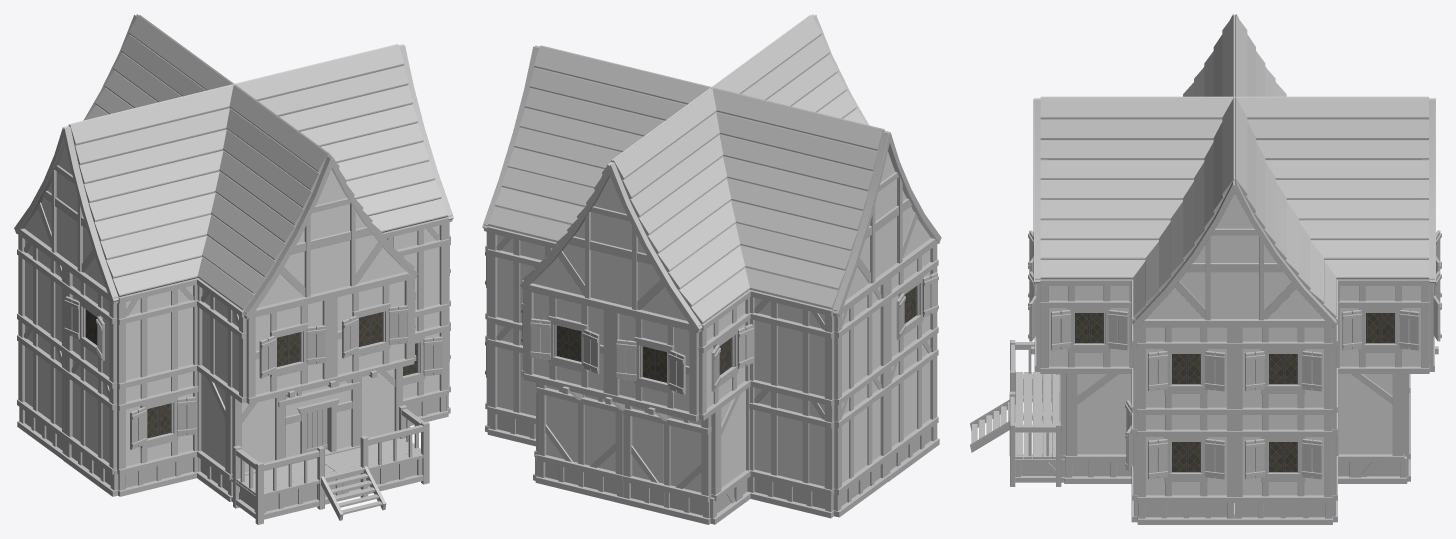
File: City_House_1A4.fbx
3 renders of one model, left to right at view 1: azimuth 30°, elevation 25°; view 2: azimuth 150°, elevation 25°; view 3: azimuth 270°, elevation 25°, orthographic. The views are drawn at different scales.
Parts seen in each view (by area): view 1: City_House_1A4, Door.007; view 2: City_House_1A4; view 3: City_House_1A4.
Boxes of the visible parts, bbox=[...] form: City_House_1A4: bbox=[14, 14, 453, 524]; Door.007: bbox=[307, 408, 327, 452]; City_House_1A4: bbox=[482, 14, 941, 524]; City_House_1A4: bbox=[970, 14, 1441, 524].
Bounding box in the file's own units: 1706 × 1578 × 1944.
